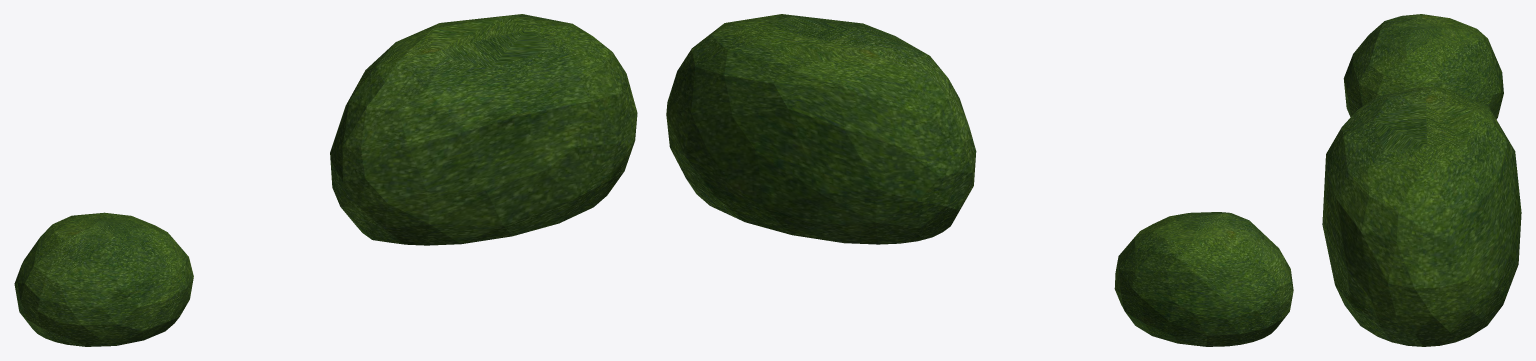
Rendered from PLANT-1A-1B.fbx.
The picture shows the model from 3 angles, left to right: view 1: azimuth 30°, elevation 25°; view 2: azimuth 150°, elevation 25°; view 3: azimuth 270°, elevation 25°; orthographic projection.
Parts seen in each view (by area): view 1: Sphere.001, Sphere; view 2: Sphere.001, Sphere; view 3: Sphere.001, Sphere.
Boxes of the visible parts, bbox=[...] form: Sphere.001: bbox=[330, 14, 637, 245]; Sphere: bbox=[14, 212, 193, 346]; Sphere.001: bbox=[666, 14, 976, 244]; Sphere: bbox=[1114, 212, 1293, 346]; Sphere.001: bbox=[1322, 87, 1521, 346]; Sphere: bbox=[1343, 14, 1503, 119].
Bounding box in the file's own units: 715 × 209 × 202.
Materials: 1 (1 with a texture image).
